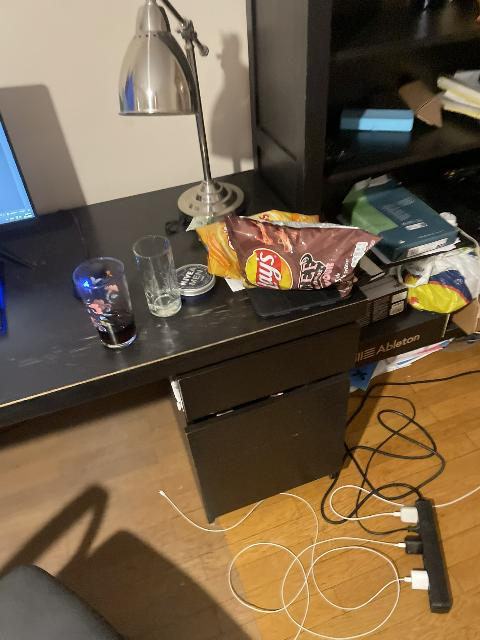Chio Hula Hoops Cheese 70g: (193, 210, 329, 289)
Lays Beef Grilled Ribs 125g: (223, 212, 384, 297)
